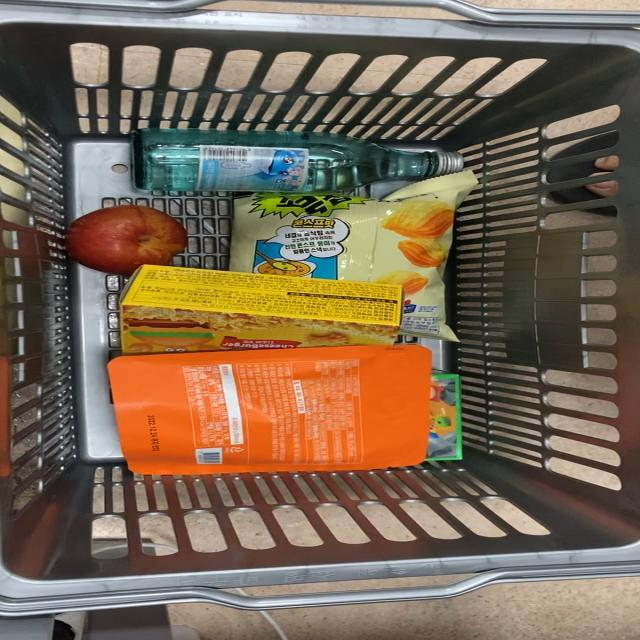cheesebagel: (75, 344, 437, 470)
ggobukchip: (217, 189, 488, 277)
jinro: (122, 126, 452, 197)
minicrab: (102, 269, 429, 345)
plum: (81, 198, 184, 274)
